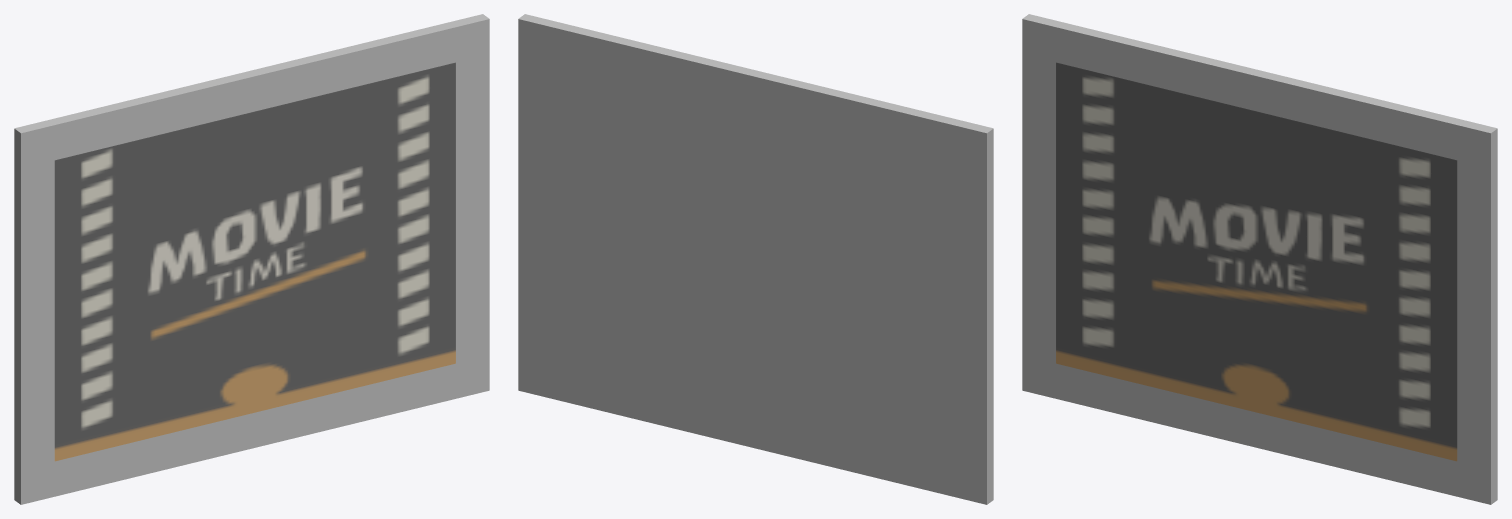
File: Picture Black D.fbx
3 views of the same model, side by side, from view 1: azimuth 30°, elevation 25°; view 2: azimuth 150°, elevation 25°; view 3: azimuth 330°, elevation 25° (orthographic).
Visible parts, largest first — view 1: Picture Black D; view 2: Picture Black D; view 3: Picture Black D.
Boxes of the visible parts, <box> form: Picture Black D: <box>14,14,489,504</box>; Picture Black D: <box>518,14,993,504</box>; Picture Black D: <box>1022,14,1497,504</box>.
Bounding box in the file's own units: 37.49 × 28.4 × 0.942.
